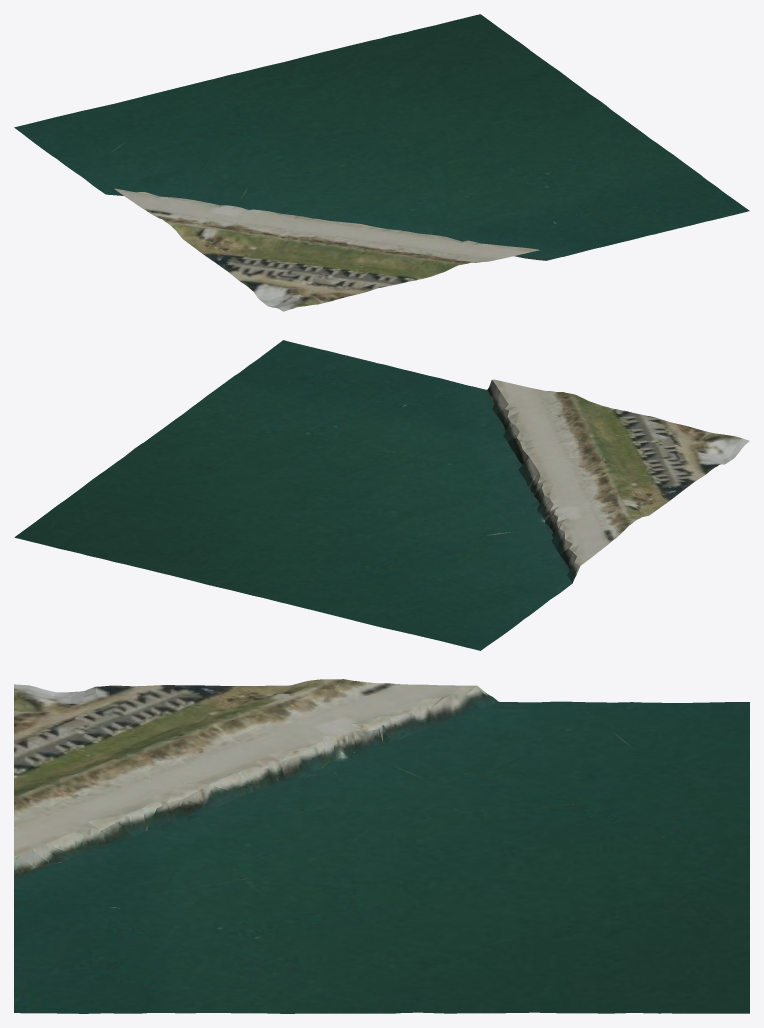
3 views of the same model, one above another, from view 1: azimuth 30°, elevation 25°; view 2: azimuth 150°, elevation 25°; view 3: azimuth 270°, elevation 25° (orthographic). The views are drawn at different scales.
Bounding box in the file's own units: 209 × 8.04 × 209.
2 materials, 2 textured.
